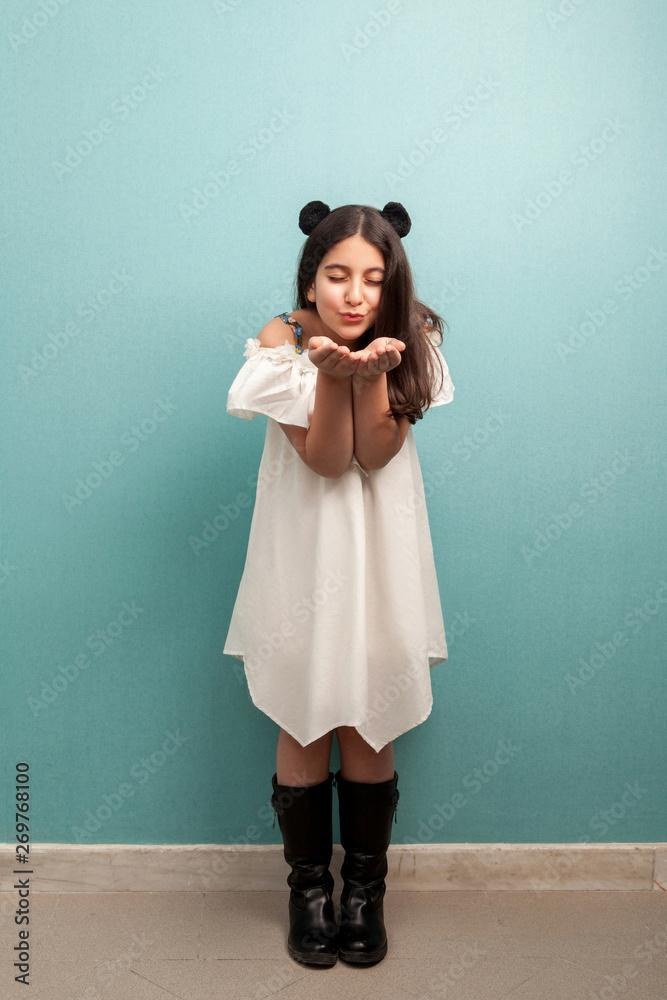Human: (194, 184, 522, 1000)
